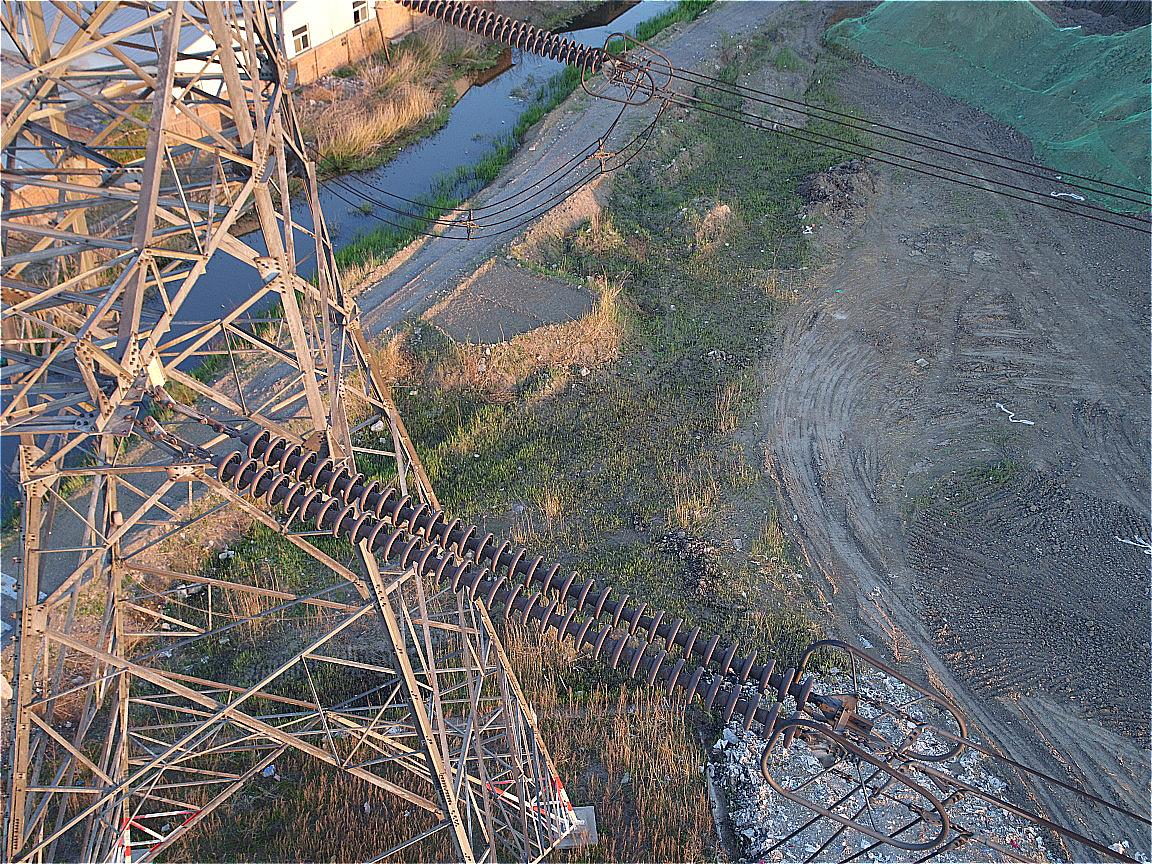insultor1: (203, 421, 826, 741)
